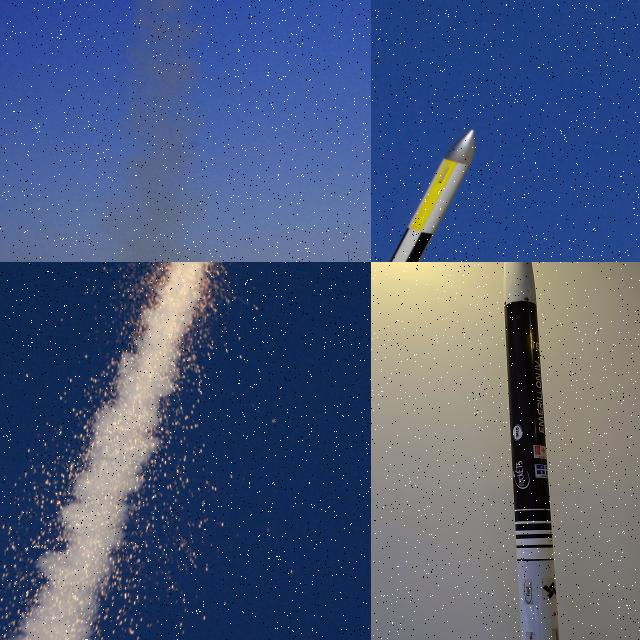Rocket: (504, 262, 560, 640), (371, 128, 477, 262)
